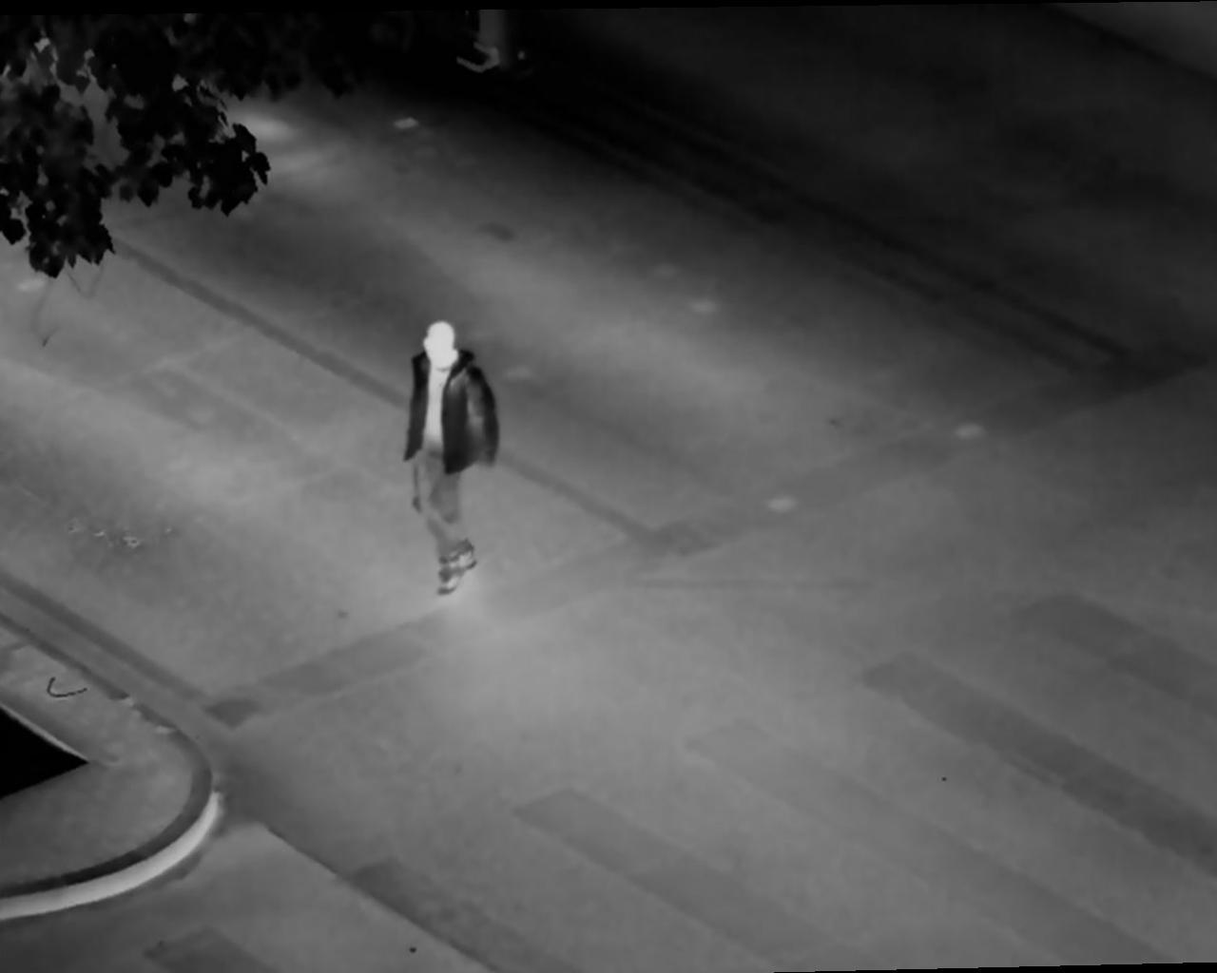person: (395, 310, 511, 603)
